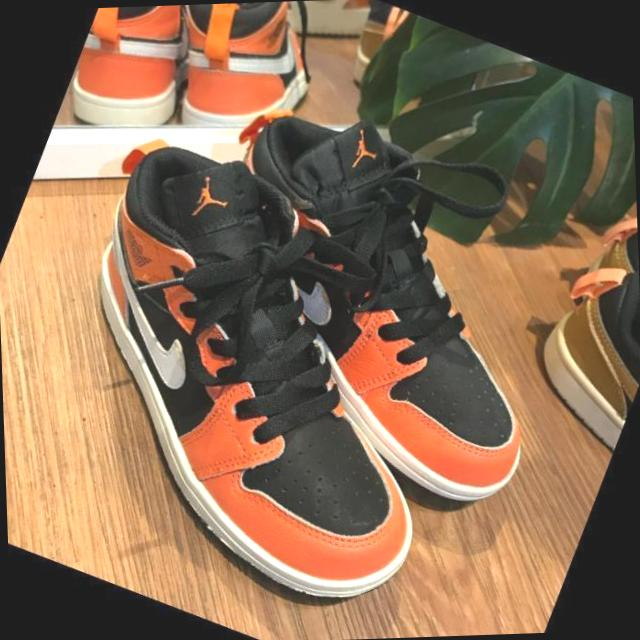nike_fake_jordan: (0, 110, 530, 639), (136, 77, 626, 540), (51, 3, 243, 161)
